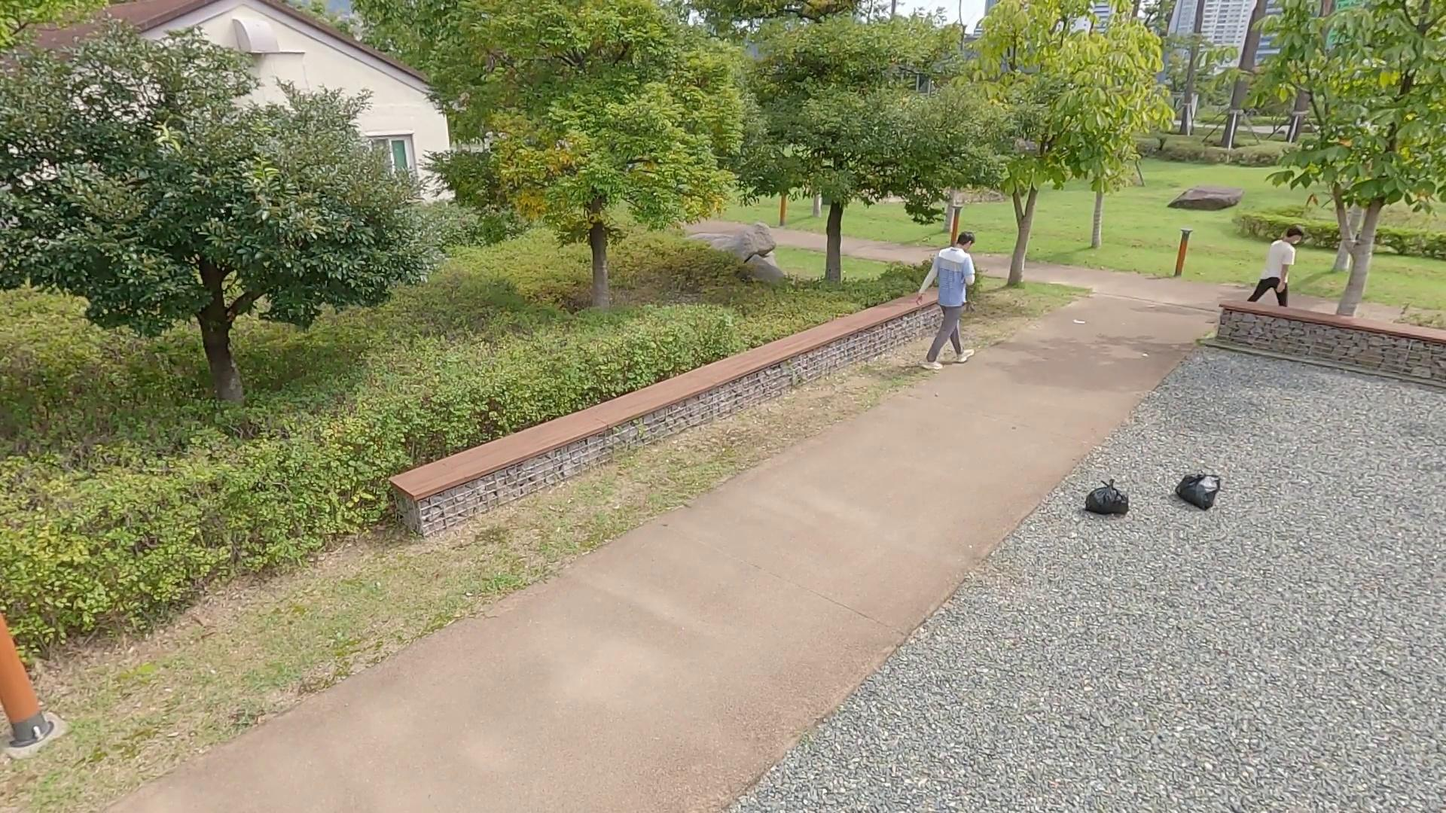person: (921, 226, 984, 370), (1247, 221, 1305, 316)
trash: (1178, 468, 1222, 506), (1089, 477, 1129, 518)
